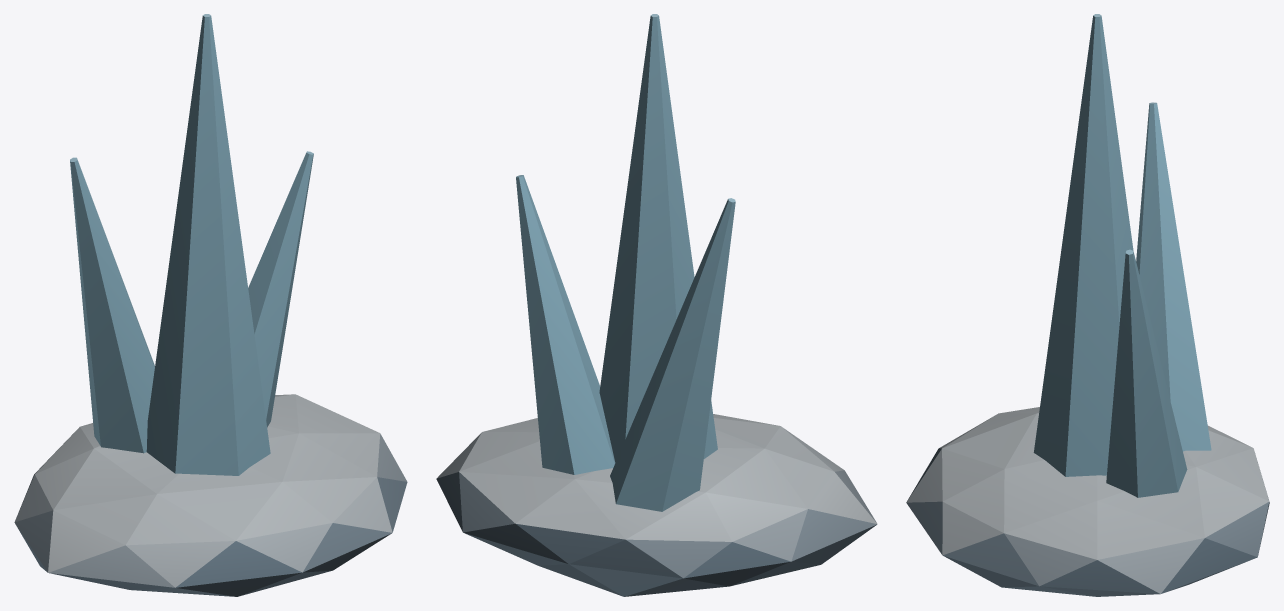
File: ice_spire_a.glb
The picture shows the model from 3 angles, left to right: view 1: azimuth 30°, elevation 25°; view 2: azimuth 150°, elevation 25°; view 3: azimuth 270°, elevation 25°; orthographic projection.
Parts seen in each view (by area): view 1: ice_spire_a; view 2: ice_spire_a; view 3: ice_spire_a.
Part boxes in pixels (<box>): ice_spire_a: <box>14,14,407,596</box>; ice_spire_a: <box>436,14,877,596</box>; ice_spire_a: <box>906,14,1269,596</box>.
Bounding box in the file's own units: 1.9 × 2.45 × 1.58.
